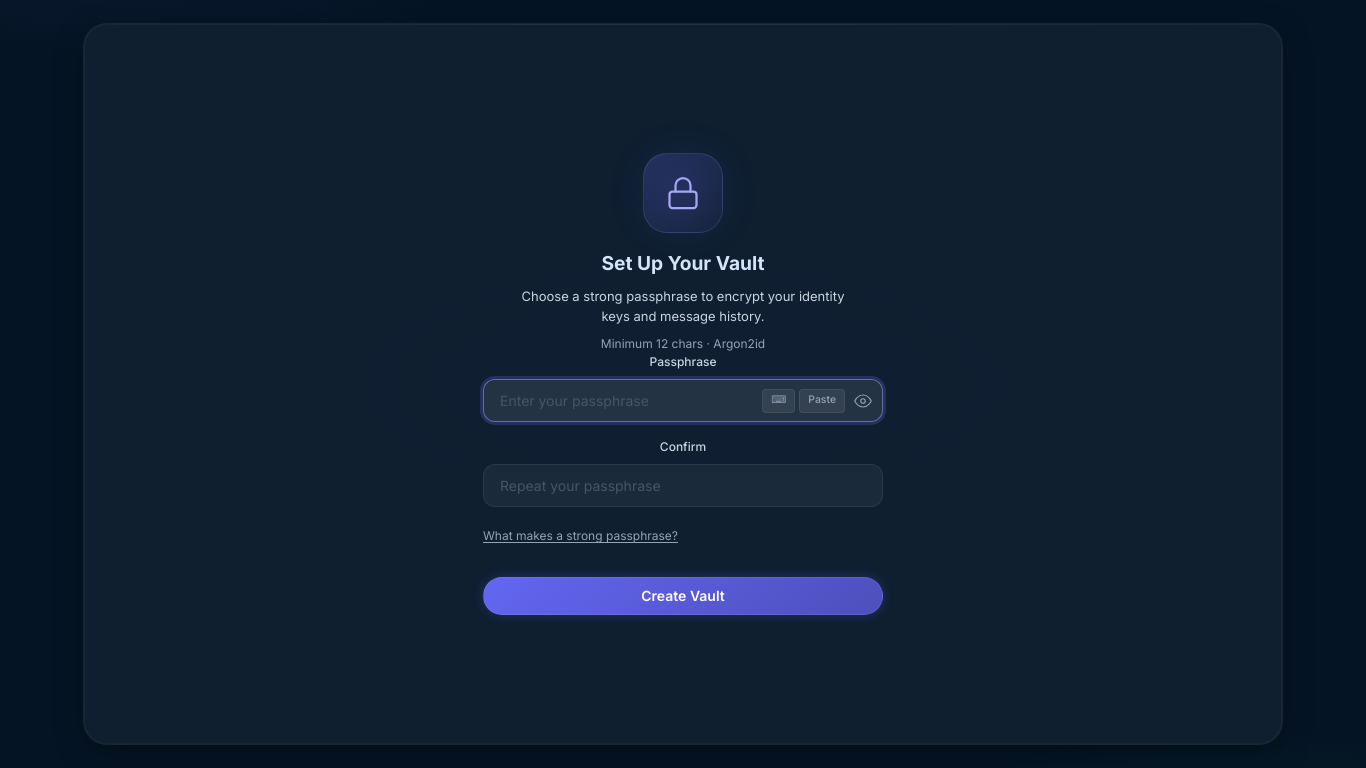
VaultView › shows strength meter as user types
Step 1. Type "correct-horse-battery-staple" into the password field with placeholder "Enter your passphrase" → coordinates (683, 401), box [500, 390, 866, 411]
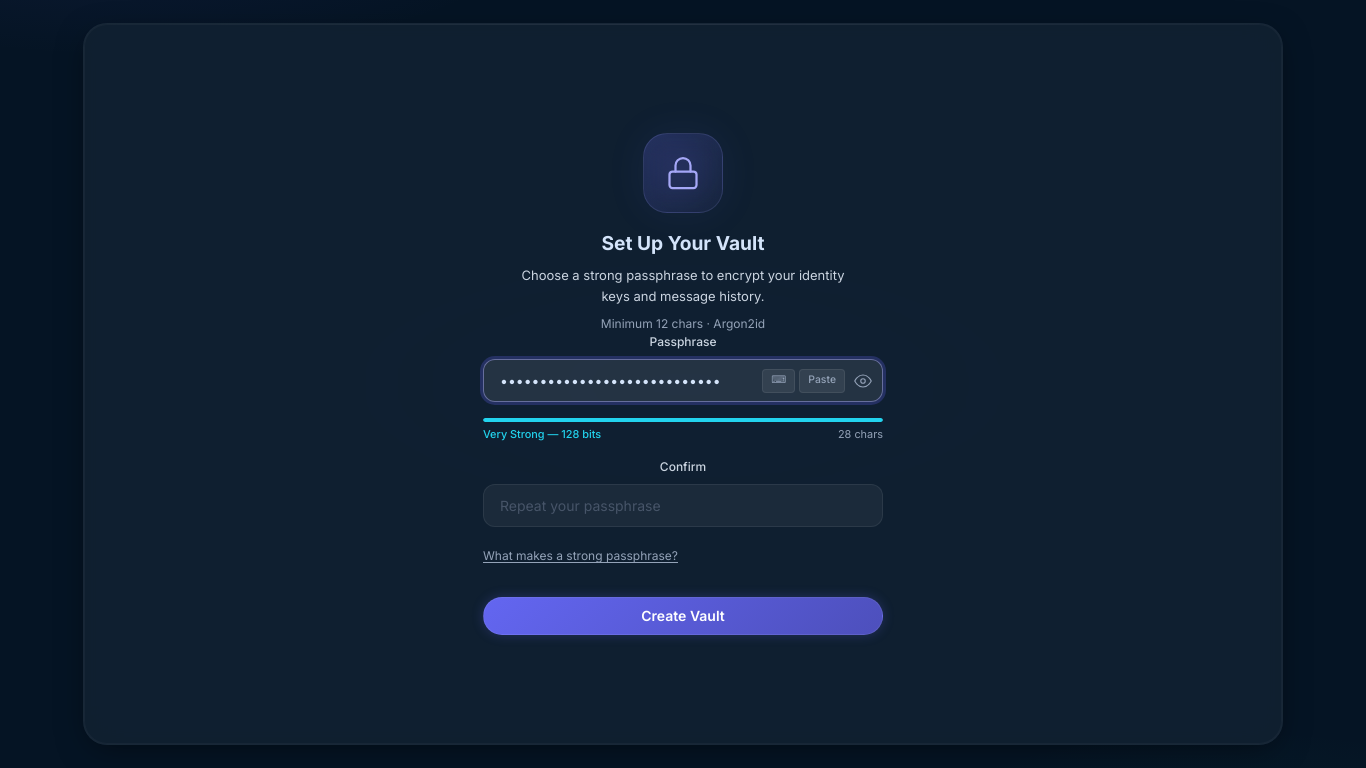
Now the text "28 chars" is shown, box [838, 426, 883, 442]
